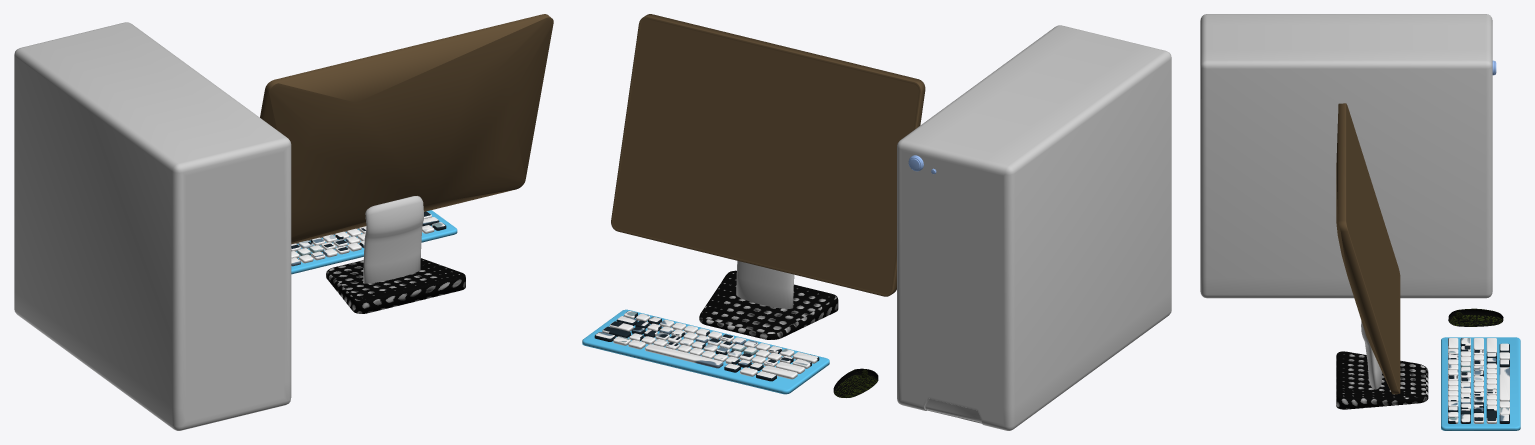
The model's file is Kompyuter.fbx.
The picture shows the model from 3 angles, left to right: view 1: azimuth 30°, elevation 25°; view 2: azimuth 150°, elevation 25°; view 3: azimuth 270°, elevation 25°; orthographic projection. The views are drawn at different scales.
Parts seen in each view (by area): view 1: Plane.009, Cube.009, Cylinder, Cube.010, Curve.001, Curve; view 2: Plane.009, Cube.009, Curve.001, Cube.010, Curve, Cylinder, Plane.012; view 3: Plane.009, Cube.009, Curve.001, Cube.010, Curve, Plane.012, Cylinder.
Boxes of the visible parts, bbox=[...] form: Plane.009: bbox=[14, 22, 291, 430]; Cube.009: bbox=[260, 14, 553, 244]; Cylinder: bbox=[363, 196, 423, 283]; Cube.010: bbox=[326, 258, 465, 313]; Curve.001: bbox=[291, 211, 446, 266]; Curve: bbox=[291, 210, 457, 274]; Plane.009: bbox=[897, 25, 1171, 430]; Cube.009: bbox=[611, 14, 925, 296]; Curve.001: bbox=[594, 311, 819, 381]; Cube.010: bbox=[699, 270, 838, 339]; Curve: bbox=[582, 309, 829, 394]; Cylinder: bbox=[736, 261, 794, 308]; Plane.012: bbox=[833, 368, 878, 397]; Plane.009: bbox=[1200, 14, 1492, 298]; Cube.009: bbox=[1336, 103, 1400, 394]; Curve.001: bbox=[1448, 338, 1509, 423]; Cube.010: bbox=[1336, 351, 1428, 409]; Curve: bbox=[1441, 337, 1520, 430]; Plane.012: bbox=[1448, 308, 1503, 326]; Cylinder: bbox=[1361, 321, 1382, 389].
Bounding box in the file's own units: 321 × 179 × 219.
